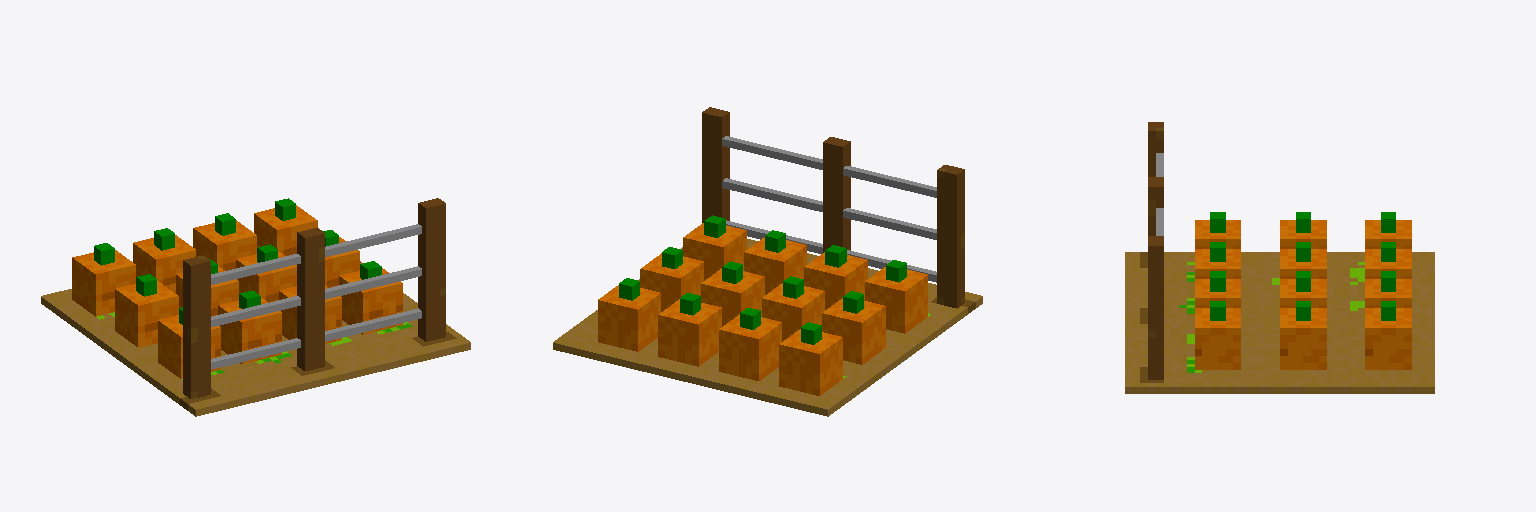
The picture shows the model from 3 angles: view 1: azimuth 30°, elevation 25°; view 2: azimuth 150°, elevation 25°; view 3: azimuth 270°, elevation 25°; orthographic projection.
Visible parts, largest first — view 1: object 1; view 2: object 1; view 3: object 1.
Part boxes in pixels (bbox=[...]): object 1: bbox=[41, 198, 470, 416]; object 1: bbox=[553, 107, 982, 416]; object 1: bbox=[1125, 122, 1434, 393].
Size of the model in its own units: 4.1 by 2 by 4.
Materials: 1 (1 with a texture image).